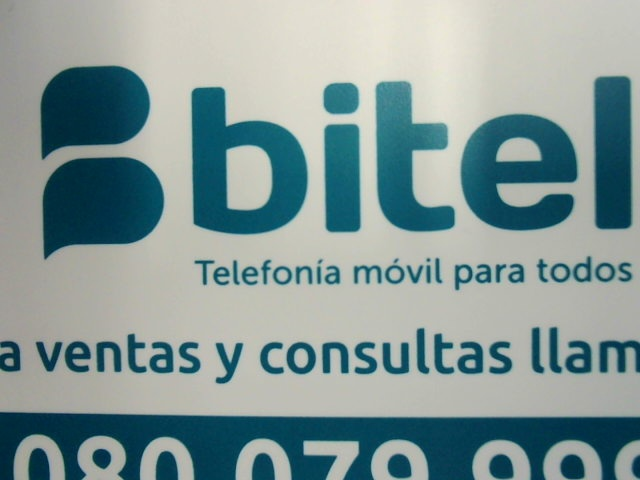BE_bitel: (32, 61, 635, 257)
